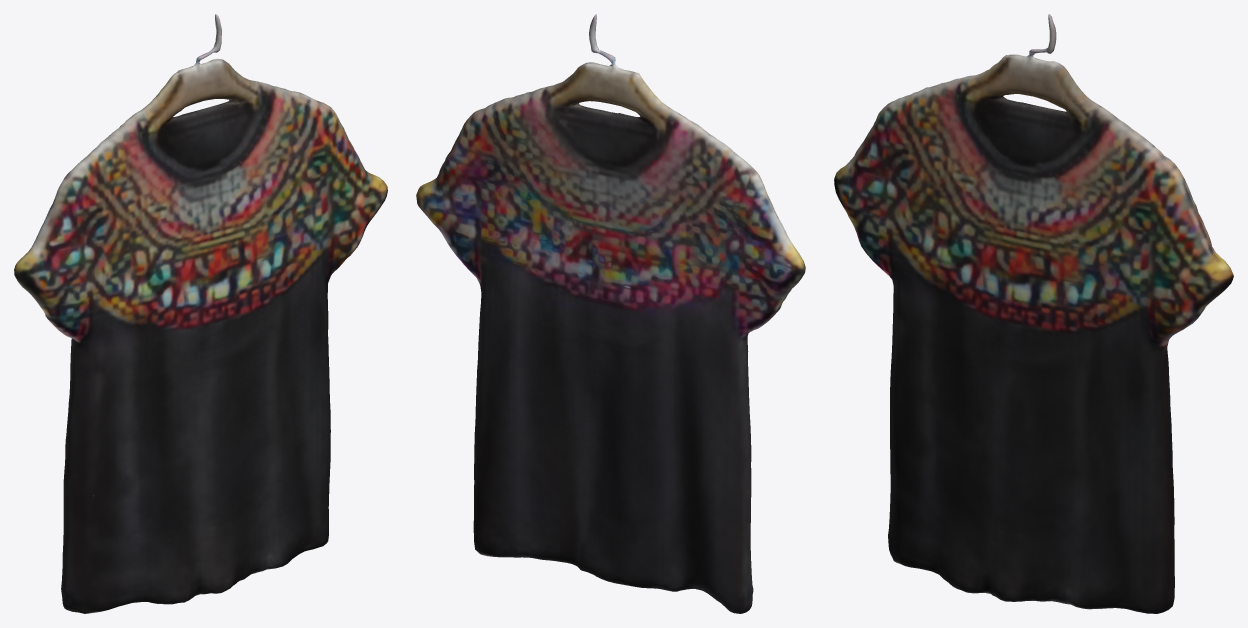
File: remerax5.glb
3 views of the same model, side by side, from view 1: azimuth 30°, elevation 25°; view 2: azimuth 150°, elevation 25°; view 3: azimuth 330°, elevation 25° (orthographic). The views are drawn at different scales.
Visible parts, largest first — view 1: mesh; view 2: mesh; view 3: mesh.
Boxes of the visible parts, left/top/right/bottom form: mesh: left=14, top=14, right=387, bottom=613; mesh: left=416, top=14, right=805, bottom=613; mesh: left=834, top=14, right=1233, bottom=613.
Size of the model in its own units: 1.27 by 1.8 by 0.2364.
Materials: 1 (1 with a texture image).
